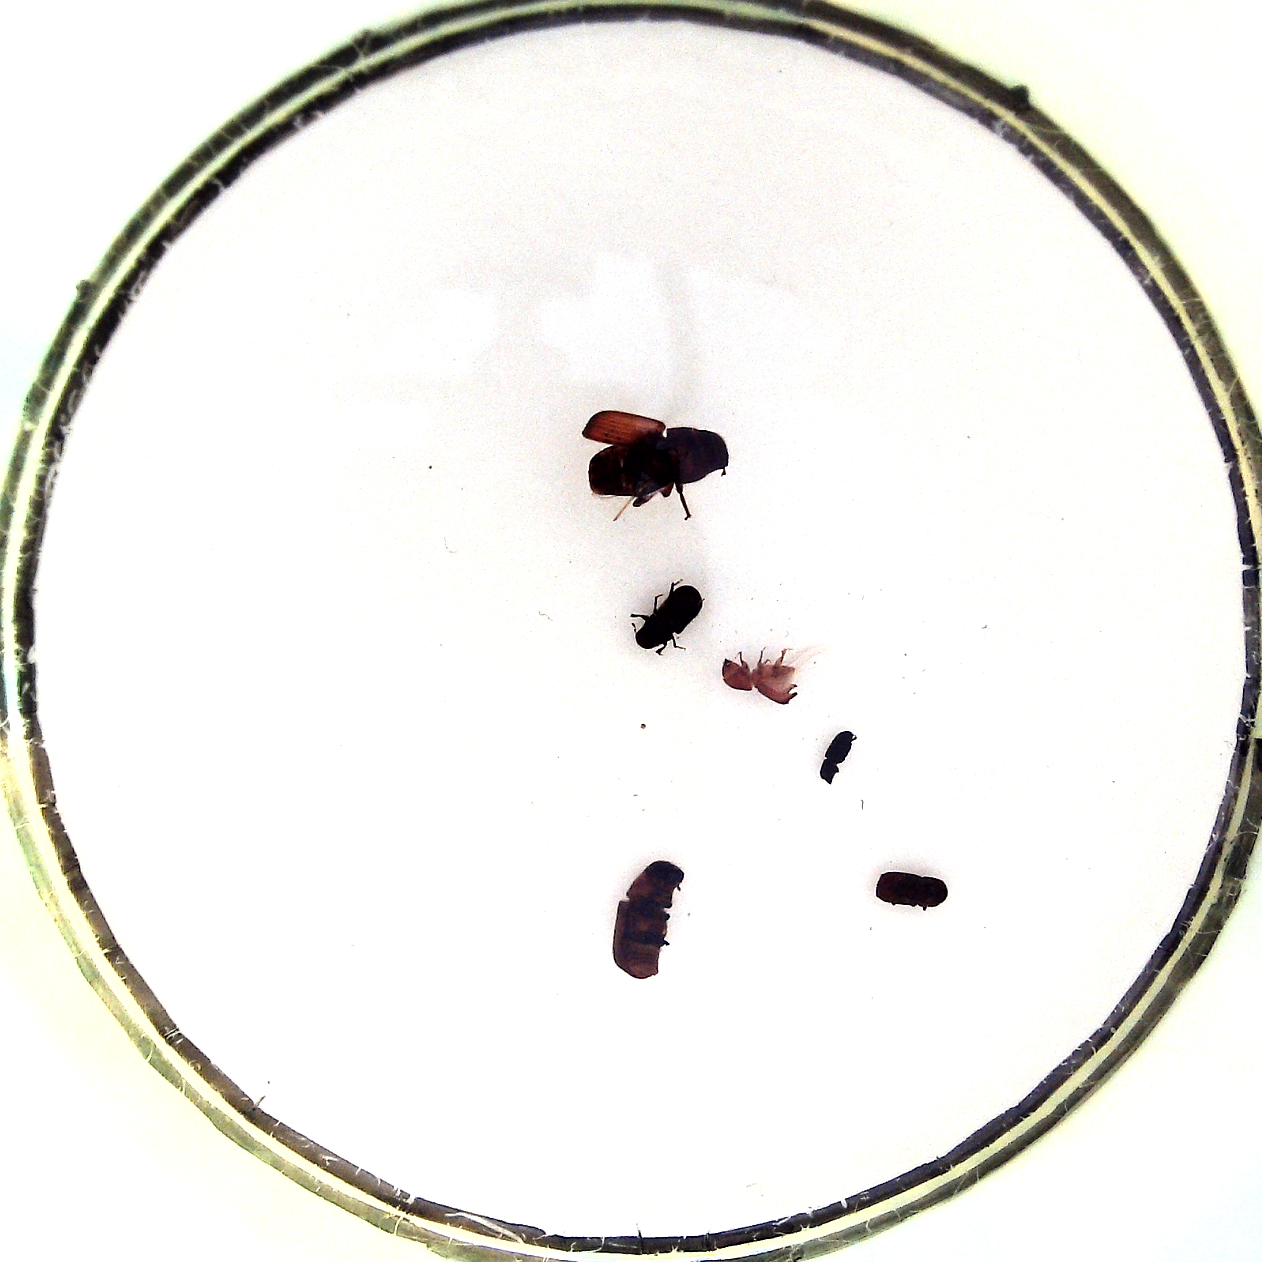Leconte: (579, 407, 732, 522), (608, 856, 689, 982)
Linnaeus: (873, 862, 946, 912)
acuminatus: (714, 644, 804, 711)
armandi: (630, 578, 704, 653)
coleoptera: (817, 727, 863, 789)
